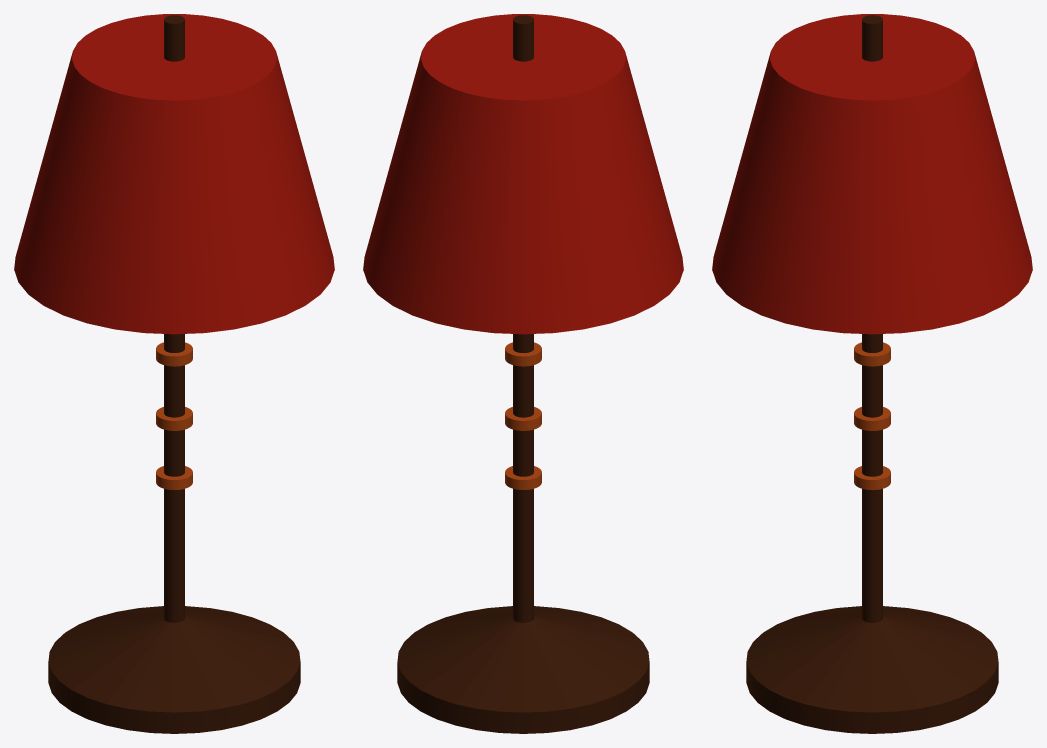
The model's file is Lamp.fbx.
3 renders of one model, left to right at view 1: azimuth 30°, elevation 25°; view 2: azimuth 150°, elevation 25°; view 3: azimuth 270°, elevation 25°, orthographic.
Visible parts, largest first — view 1: Cylinder004, Cylinder003, Cylinder007, Cylinder005, Cylinder006; view 2: Cylinder004, Cylinder003, Cylinder007, Cylinder005, Cylinder006; view 3: Cylinder004, Cylinder003, Cylinder007, Cylinder005, Cylinder006.
Boxes of the visible parts, x1=… form: Cylinder004: x1=14, y1=14, x2=334, y2=334; Cylinder003: x1=48, y1=15, x2=300, y2=733; Cylinder007: x1=156, y1=342, x2=192, y2=366; Cylinder005: x1=156, y1=466, x2=192, y2=489; Cylinder006: x1=156, y1=407, x2=192, y2=430; Cylinder004: x1=363, y1=14, x2=683, y2=334; Cylinder003: x1=397, y1=15, x2=649, y2=733; Cylinder007: x1=505, y1=342, x2=541, y2=366; Cylinder005: x1=505, y1=466, x2=541, y2=489; Cylinder006: x1=505, y1=407, x2=541, y2=430; Cylinder004: x1=712, y1=14, x2=1032, y2=334; Cylinder003: x1=746, y1=15, x2=998, y2=733; Cylinder007: x1=854, y1=342, x2=890, y2=366; Cylinder005: x1=854, y1=466, x2=890, y2=490; Cylinder006: x1=854, y1=407, x2=890, y2=430.
Bounding box in the file's own units: 4.34 × 9.87 × 4.34.
